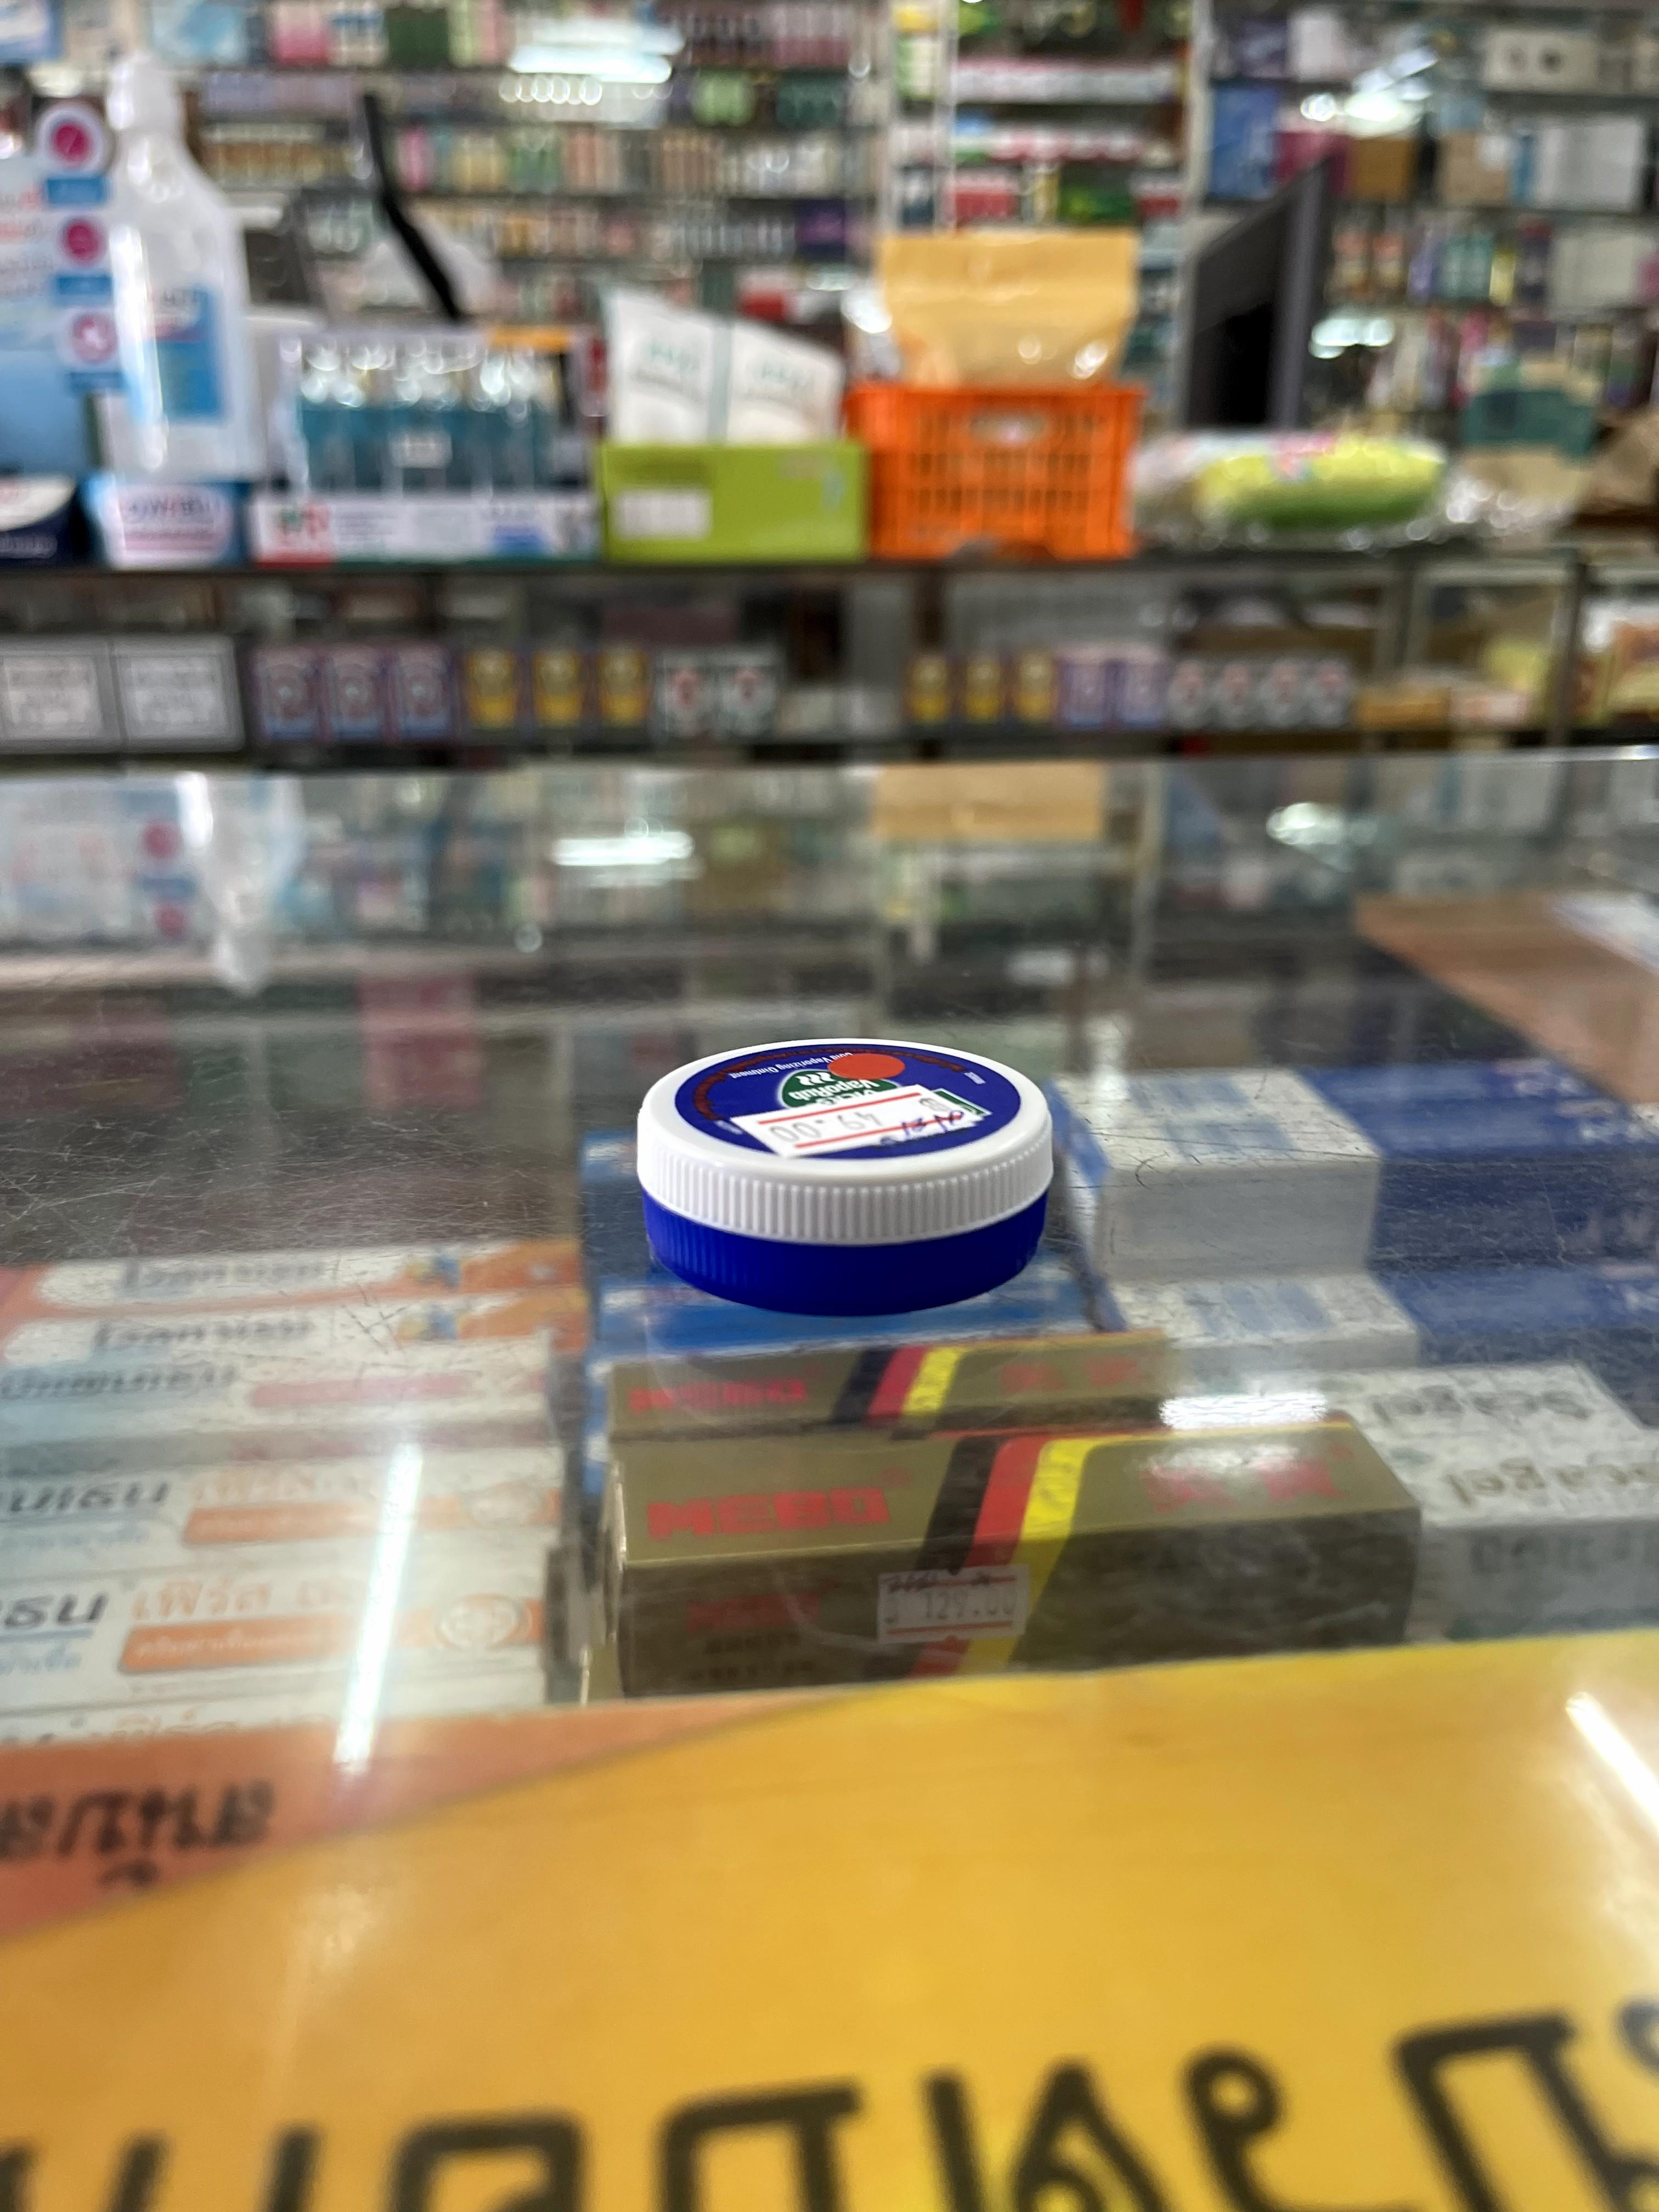VapoRub_Small: (641, 1040, 1061, 1301)
